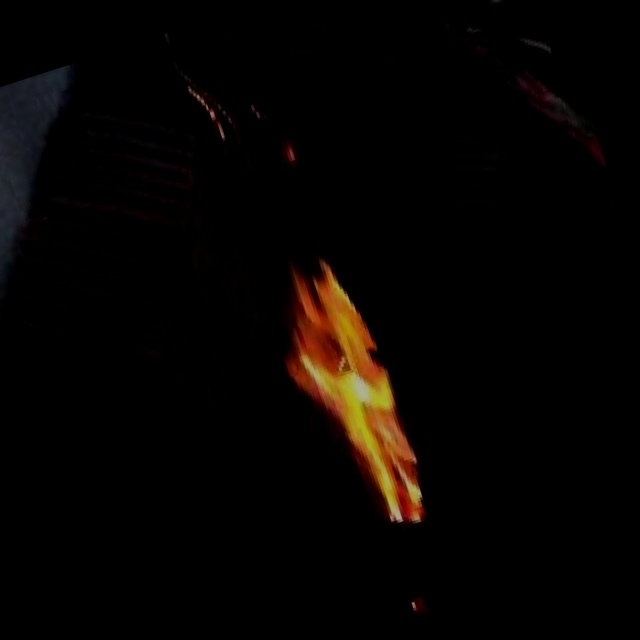fire: (184, 129, 494, 587)
